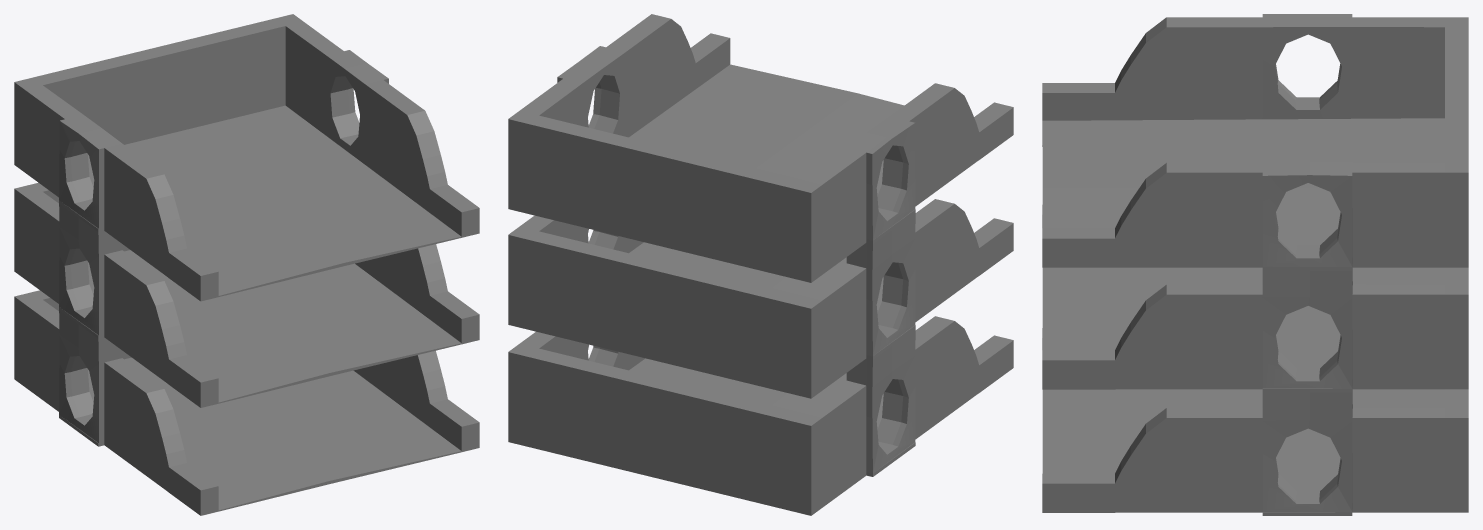
Rendered from Cart_Holder_Model.fbx.
3 renders of one model, left to right at view 1: azimuth 30°, elevation 25°; view 2: azimuth 150°, elevation 25°; view 3: azimuth 270°, elevation 25°, orthographic. The views are drawn at different scales.
Visible parts, largest first — view 1: porta_carte; view 2: porta_carte; view 3: porta_carte.
Part boxes in pixels (bbox=[...]): porta_carte: bbox=[14, 14, 479, 515]; porta_carte: bbox=[508, 14, 1013, 515]; porta_carte: bbox=[1042, 14, 1468, 515].
Size of the model in its own units: 0.0336 by 0.0329 by 0.0373.
Materials: 1 (1 with a texture image).
